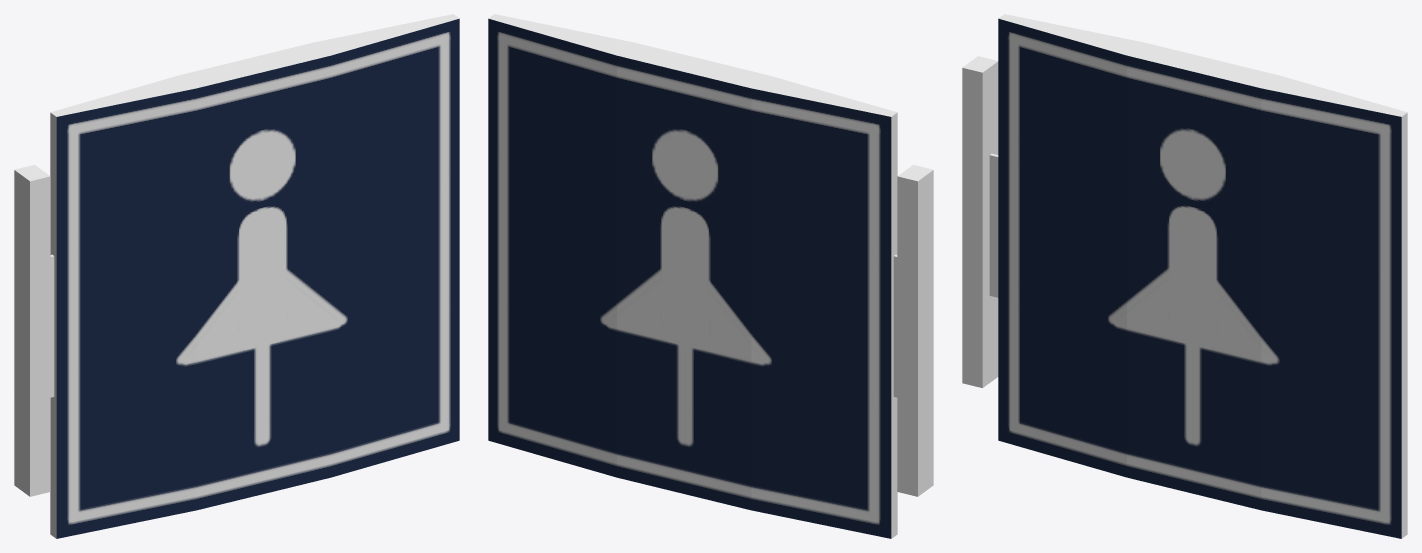
File: toilet_board_woman.fbx
3 renders of one model, left to right at view 1: azimuth 30°, elevation 25°; view 2: azimuth 150°, elevation 25°; view 3: azimuth 330°, elevation 25°, orthographic.
Parts seen in each view (by area): view 1: toilet_board_woman; view 2: toilet_board_woman; view 3: toilet_board_woman.
Part boxes in pixels (x1,y1,x2,y2): toilet_board_woman: (14,14,459,538); toilet_board_woman: (488,14,933,538); toilet_board_woman: (962,14,1407,538).
Bounding box in the file's own units: 0.00378 × 0.00351 × 0.000268.
Materials: 1 (1 with a texture image).
